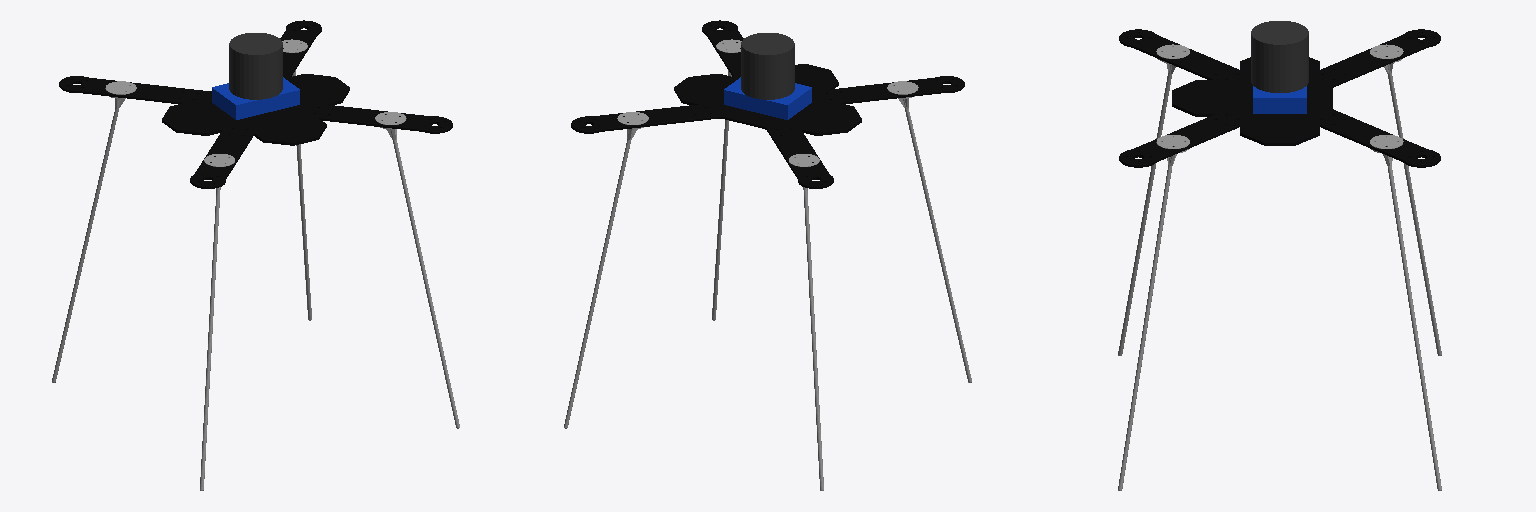
robot.urdf — mid360_px4_drone:
<?xml version="1.0"?>
<!--
  ROS Noetic URDF for:
    - 机架底板 (base_plate.stl)
    - 飞机腿 x4 (landing_leg.stl)
    - PX4 flight controller (box)
    - Livox MID-360 (cylinder approximation)

  TF tree produced by this URDF + robot_state_publisher:

      camera_init                 (FAST-LIO world, published by FAST-LIO)
      └── body                    (MID-360 internal IMU, FAST-LIO "body")
          ├── lidar_link          (MID-360 LiDAR frame)
          └── base_link           (PX4/FC body frame, FLU)
              ├── flight_controller
              ├── px4_imu_link
              ├── px4_frd
              ├── base_plate
              │   ├── landing_leg_front_left
              │   ├── landing_leg_front_right
              │   ├── landing_leg_rear_right
              │   └── landing_leg_rear_left
              └── base_footprint  (ground, leaf frame)

  Important:
    * `body` is the MID-360 internal IMU frame used by FAST-LIO.
    * `base_link` is at the PX4 flight-controller centre, FLU axes.
    * The MID-360 official IMU->LiDAR extrinsic is used:
          lidar_link xyz = [-0.011, -0.02329, 0.04412]
          lidar_link rpy = [0, 0, 0]
    * `body -> base_link` is assumed to be 0.02 m vertically (MID-360 IMU is
      2 cm above the FC centre). Adjust this if your mount is different.
    * `livox_frame` (published by the Livox driver) is connected to
      `lidar_link` by a static transform in real_robot.launch.
-->
<robot name="mid360_px4_drone">

  <!-- ===================== materials ===================== -->
  <material name="carbon_black">
    <color rgba="0.08 0.08 0.08 1.0"/>
  </material>
  <material name="aluminium">
    <color rgba="0.65 0.65 0.65 1.0"/>
  </material>
  <material name="flight_controller_blue">
    <color rgba="0.10 0.30 0.75 1.0"/>
  </material>
  <material name="lidar_grey">
    <color rgba="0.25 0.25 0.25 1.0"/>
  </material>

  <!-- ===================== MID-360 IMU / FAST-LIO body ===================== -->
  <!--
    This is the root link of the robot description.
    FAST-LIO publishes camera_init -> body; robot_state_publisher publishes
    body -> base_link and body -> lidar_link.
  -->
  <link name="body"/>

  <!-- ===================== MID-360 LiDAR ===================== -->
  <link name="lidar_link">
    <visual>
      <!--
        The MID-360 `lidar_link` is the official optical frame. It is offset
        from the housing centre and about 2.412 cm above the geometric centre
        of the 60 mm-tall housing. Offset the visual cylinder so the housing
        is centred over the FC and its bottom sits on the FC top surface.
      -->
      <origin xyz="0.011 0.02329 -0.02412" rpy="0 0 0"/>
      <geometry>
        <!-- approximate MID-360: 65 mm diameter x 60 mm high -->
        <cylinder radius="0.0325" length="0.06"/>
      </geometry>
      <material name="lidar_grey"/>
    </visual>

    <collision>
      <origin xyz="0.011 0.02329 -0.02412" rpy="0 0 0"/>
      <geometry>
        <cylinder radius="0.0325" length="0.06"/>
      </geometry>
    </collision>

    <inertial>
      <origin xyz="0 0 0" rpy="0 0 0"/>
      <mass value="0.30"/>
      <inertia ixx="0.0001692" ixy="0" ixz="0"
               iyy="0.0001692" iyz="0"
               izz="0.0001584"/>
    </inertial>
  </link>

  <joint name="lidar_joint" type="fixed">
    <parent link="body"/>
    <child link="lidar_link"/>
    <!-- Official FAST-LIO MID-360 IMU->LiDAR extrinsic (LiDAR in IMU frame) -->
    <origin xyz="-0.011 -0.02329 0.04412" rpy="0 0 0"/>
  </joint>

  <!-- ===================== PX4 flight controller body ===================== -->
  <!--
    base_link is at the FC centre and uses FLU axes (x forward, y left, z up).
    If your MAVROS/PX4 frame is FRD, use the px4_frd frame below.
  -->
  <link name="base_link"/>

  <joint name="body_to_base_link_joint" type="fixed">
    <parent link="body"/>
    <child link="base_link"/>
    <!-- ADJUST: MID-360 IMU is assumed 0.02 m above the FC centre -->
    <origin xyz="0 0 -0.02" rpy="0 0 0"/>
  </joint>

  <!-- PX4 FC box -->
  <link name="flight_controller">
    <visual>
      <origin xyz="0 0 0" rpy="0 0 0"/>
      <geometry>
        <box size="0.09 0.06 0.02"/>
      </geometry>
      <material name="flight_controller_blue"/>
    </visual>

    <collision>
      <origin xyz="0 0 0" rpy="0 0 0"/>
      <geometry>
        <box size="0.09 0.06 0.02"/>
      </geometry>
    </collision>

    <inertial>
      <origin xyz="0 0 0" rpy="0 0 0"/>
      <mass value="0.10"/>
      <inertia ixx="0.0000333" ixy="0" ixz="0"
               iyy="0.0000708" iyz="0"
               izz="0.0000975"/>
    </inertial>
  </link>

  <joint name="flight_controller_joint" type="fixed">
    <parent link="base_link"/>
    <child link="flight_controller"/>
    <origin xyz="0 0 0" rpy="0 0 0"/>
  </joint>

  <!-- PX4 IMU frame, coincident with the FC centre -->
  <link name="px4_imu_link"/>

  <joint name="px4_imu_joint" type="fixed">
    <parent link="base_link"/>
    <child link="px4_imu_link"/>
    <origin xyz="0 0 0" rpy="0 0 0"/>
  </joint>

  <!-- Optional FRD frame for PX4-style consumers -->
  <link name="px4_frd"/>

  <joint name="px4_frd_joint" type="fixed">
    <parent link="base_link"/>
    <child link="px4_frd"/>
    <!-- FLU -> FRD: rotate 180 deg about X -->
    <origin xyz="0 0 0" rpy="3.14159265 0 0"/>
  </joint>

  <!-- ===================== base plate ===================== -->
  <link name="base_plate">
    <visual>
      <!-- STL is 362.2 x 362.2 x 3.5 mm; centre it at the link origin -->
      <origin xyz="-0.1811 -0.1811 -0.00175" rpy="0 0 0"/>
      <geometry>
        <mesh filename="package://drone_description/meshes/base_plate.stl"
              scale="0.001 0.001 0.001"/>
      </geometry>
      <material name="carbon_black"/>
    </visual>

    <collision>
      <origin xyz="-0.1811 -0.1811 -0.00175" rpy="0 0 0"/>
      <geometry>
        <mesh filename="package://drone_description/meshes/base_plate.stl"
              scale="0.001 0.001 0.001"/>
      </geometry>
    </collision>

    <inertial>
      <origin xyz="0 0 0" rpy="0 0 0"/>
      <mass value="0.60"/>
      <inertia ixx="0.006560" ixy="0" ixz="0"
               iyy="0.006560" iyz="0"
               izz="0.013119"/>
    </inertial>
  </link>

  <joint name="base_plate_joint" type="fixed">
    <parent link="base_link"/>
    <child link="base_plate"/>
    <!-- FC centre -> plate mid-plane: -0.01175 m -->
    <origin xyz="0 0 -0.01175" rpy="0 0 0"/>
  </joint>

  <!-- ===================== landing legs ===================== -->
  <!--
    One leg mesh is used four times.
    In the leg-link frame the round 4-hole flange is at the origin; the leg
    extends along +X and -Z.

    leg-link frame -> mesh visual:
      xyz = 0.087 -0.019 -0.402
      rpy = 1.5708 0 3.14159
  -->

  <!-- front-left: +X, +Y -->
  <link name="landing_leg_front_left">
    <visual>
      <origin xyz="0.087 -0.019 -0.402" rpy="1.5708 0 3.14159"/>
      <geometry>
        <mesh filename="package://drone_description/meshes/landing_leg.stl"
              scale="0.001 0.001 0.001"/>
      </geometry>
      <material name="aluminium"/>
    </visual>
    <collision>
      <origin xyz="0.087 -0.019 -0.402" rpy="1.5708 0 3.14159"/>
      <geometry>
        <mesh filename="package://drone_description/meshes/landing_leg.stl"
              scale="0.001 0.001 0.001"/>
      </geometry>
    </collision>
    <inertial>
      <origin xyz="0.0424 0 -0.20045" rpy="0 0 0"/>
      <mass value="0.08"/>
      <inertia ixx="0.001073" ixy="0" ixz="0"
               iyy="0.001073" iyz="0"
               izz="0.00000144"/>
    </inertial>
  </link>

  <joint name="landing_leg_front_left_joint" type="fixed">
    <parent link="base_plate"/>
    <child link="landing_leg_front_left"/>
    <origin xyz="0.12 0.12 -0.00175" rpy="0 0 0.785398"/>
  </joint>

  <!-- front-right: +X, -Y -->
  <link name="landing_leg_front_right">
    <visual>
      <origin xyz="0.087 -0.019 -0.402" rpy="1.5708 0 3.14159"/>
      <geometry>
        <mesh filename="package://drone_description/meshes/landing_leg.stl"
              scale="0.001 0.001 0.001"/>
      </geometry>
      <material name="aluminium"/>
    </visual>
    <collision>
      <origin xyz="0.087 -0.019 -0.402" rpy="1.5708 0 3.14159"/>
      <geometry>
        <mesh filename="package://drone_description/meshes/landing_leg.stl"
              scale="0.001 0.001 0.001"/>
      </geometry>
    </collision>
    <inertial>
      <origin xyz="0.0424 0 -0.20045" rpy="0 0 0"/>
      <mass value="0.08"/>
      <inertia ixx="0.001073" ixy="0" ixz="0"
               iyy="0.001073" iyz="0"
               izz="0.00000144"/>
    </inertial>
  </link>

  <joint name="landing_leg_front_right_joint" type="fixed">
    <parent link="base_plate"/>
    <child link="landing_leg_front_right"/>
    <origin xyz="0.12 -0.12 -0.00175" rpy="0 0 -0.785398"/>
  </joint>

  <!-- rear-right: -X, -Y -->
  <link name="landing_leg_rear_right">
    <visual>
      <origin xyz="0.087 -0.019 -0.402" rpy="1.5708 0 3.14159"/>
      <geometry>
        <mesh filename="package://drone_description/meshes/landing_leg.stl"
              scale="0.001 0.001 0.001"/>
      </geometry>
      <material name="aluminium"/>
    </visual>
    <collision>
      <origin xyz="0.087 -0.019 -0.402" rpy="1.5708 0 3.14159"/>
      <geometry>
        <mesh filename="package://drone_description/meshes/landing_leg.stl"
              scale="0.001 0.001 0.001"/>
      </geometry>
    </collision>
    <inertial>
      <origin xyz="0.0424 0 -0.20045" rpy="0 0 0"/>
      <mass value="0.08"/>
      <inertia ixx="0.001073" ixy="0" ixz="0"
               iyy="0.001073" iyz="0"
               izz="0.00000144"/>
    </inertial>
  </link>

  <joint name="landing_leg_rear_right_joint" type="fixed">
    <parent link="base_plate"/>
    <child link="landing_leg_rear_right"/>
    <origin xyz="-0.12 -0.12 -0.00175" rpy="0 0 -2.356194"/>
  </joint>

  <!-- rear-left: -X, +Y -->
  <link name="landing_leg_rear_left">
    <visual>
      <origin xyz="0.087 -0.019 -0.402" rpy="1.5708 0 3.14159"/>
      <geometry>
        <mesh filename="package://drone_description/meshes/landing_leg.stl"
              scale="0.001 0.001 0.001"/>
      </geometry>
      <material name="aluminium"/>
    </visual>
    <collision>
      <origin xyz="0.087 -0.019 -0.402" rpy="1.5708 0 3.14159"/>
      <geometry>
        <mesh filename="package://drone_description/meshes/landing_leg.stl"
              scale="0.001 0.001 0.001"/>
      </geometry>
    </collision>
    <inertial>
      <origin xyz="0.0424 0 -0.20045" rpy="0 0 0"/>
      <mass value="0.08"/>
      <inertia ixx="0.001073" ixy="0" ixz="0"
               iyy="0.001073" iyz="0"
               izz="0.00000144"/>
    </inertial>
  </link>

  <joint name="landing_leg_rear_left_joint" type="fixed">
    <parent link="base_plate"/>
    <child link="landing_leg_rear_left"/>
    <origin xyz="-0.12 0.12 -0.00175" rpy="0 0 2.356194"/>
  </joint>

  <!-- ===================== ground frame ===================== -->
  <link name="base_footprint"/>

  <joint name="base_footprint_joint" type="fixed">
    <parent link="base_link"/>
    <child link="base_footprint"/>
    <!-- FC centre -> ground: 0.4155 m (with the current leg length) -->
    <origin xyz="0 0 -0.4155" rpy="0 0 0"/>
  </joint>

</robot>

--- What the picture shows (computed from the rendered views, not written in the file) ---
The picture shows the robot from 3 angles, left to right: view 1: azimuth 30°, elevation 25°; view 2: azimuth 150°, elevation 25°; view 3: azimuth 270°, elevation 25°; orthographic projection.
Model mid360_px4_drone with 12 links and 11 joints (11 fixed), rooted at body, posed all joints at 0.
Visible links, largest first — view 1: base_plate, lidar_link, flight_controller, landing_leg_front_right, landing_leg_rear_left, landing_leg_rear_right, landing_leg_front_left; view 2: base_plate, lidar_link, flight_controller, landing_leg_front_left, landing_leg_rear_right, landing_leg_rear_left, landing_leg_front_right; view 3: base_plate, lidar_link, landing_leg_front_right, landing_leg_front_left, landing_leg_rear_right, landing_leg_rear_left, flight_controller.
Boxes of the visible links, x1,y1,x2,y2 form: base_plate: (59, 20, 452, 188); lidar_link: (229, 33, 282, 99); flight_controller: (212, 77, 299, 119); landing_leg_front_right: (375, 112, 459, 428); landing_leg_rear_left: (52, 81, 136, 382); landing_leg_rear_right: (200, 154, 234, 490); landing_leg_front_left: (282, 39, 311, 320); base_plate: (571, 20, 964, 188); lidar_link: (741, 33, 794, 99); flight_controller: (724, 77, 811, 119); landing_leg_front_left: (564, 112, 648, 428); landing_leg_rear_right: (887, 81, 971, 382); landing_leg_rear_left: (789, 154, 823, 490); landing_leg_front_right: (712, 39, 741, 320); base_plate: (1119, 29, 1440, 167); lidar_link: (1251, 21, 1308, 92); landing_leg_front_right: (1118, 135, 1189, 490); landing_leg_front_left: (1370, 135, 1441, 490); landing_leg_rear_right: (1118, 44, 1189, 355); landing_leg_rear_left: (1370, 44, 1441, 355); flight_controller: (1253, 86, 1306, 113).
Bounding box of the posed robot: 0.3645 × 0.3645 × 0.4855 m (x, y, z).
5 mesh visuals loaded from 2 distinct referenced files (2 binary STL).
